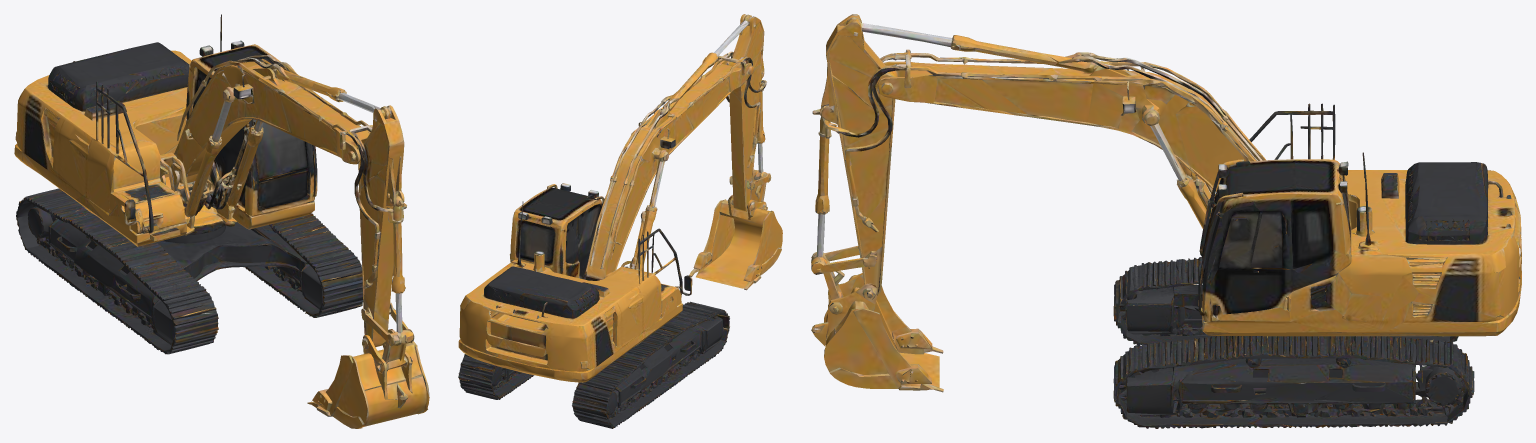
Rendered from excavator.glb.
3 views of the same model, side by side, from view 1: azimuth 30°, elevation 25°; view 2: azimuth 150°, elevation 25°; view 3: azimuth 270°, elevation 25° (orthographic). The views are drawn at different scales.
Parts seen in each view (by area): view 1: house, tracks, boom; view 2: house, boom, tracks; view 3: house, boom, tracks.
Part boxes in pixels (<box>): house: <box>14,14,317,242</box>; tracks: <box>15,152,363,354</box>; boom: <box>209,54,429,428</box>; house: <box>458,142,692,382</box>; boom: <box>626,14,782,290</box>; tracks: <box>458,301,729,428</box>; house: <box>1175,76,1521,336</box>; boom: <box>811,14,1189,392</box>; tracks: <box>1113,257,1495,428</box>.
Size of the model in its own units: 2.6 by 4.11 by 7.42.
1 material, 1 textured.
